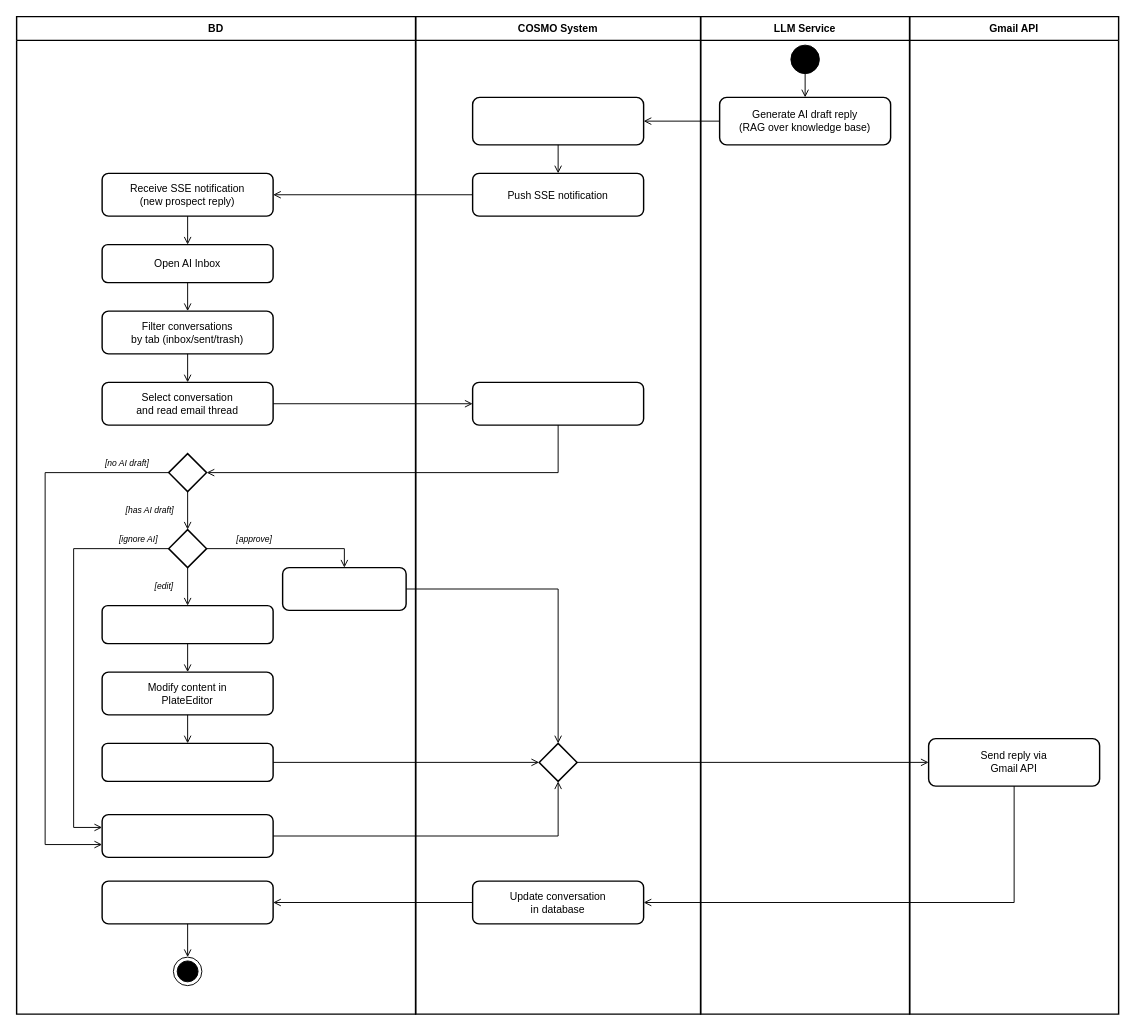
This 1136x1032 diagram has some shape labels left out. The centre of each missing label's shape, as x and y in pixels:
"Click Approve & Send" goes at pixel 343 588.
"Click Edit Draft" goes at pixel 187 624.
"Click Send Edited Reply" goes at pixel 187 762.
"Compose manual reply in PlateEditor" goes at pixel 187 835.
"Display intent badge and AI suggested reply" goes at pixel 557 403.
"Receive success toast notification" goes at pixel 187 902.
"Save draft to conversation metadata" goes at pixel 557 120.
